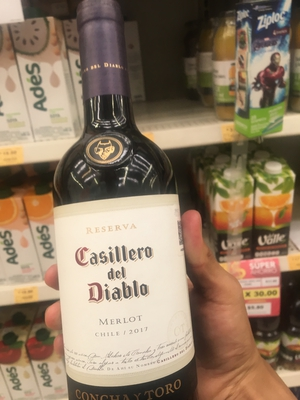casillero del diablo merlot: (42, 10, 200, 400)
